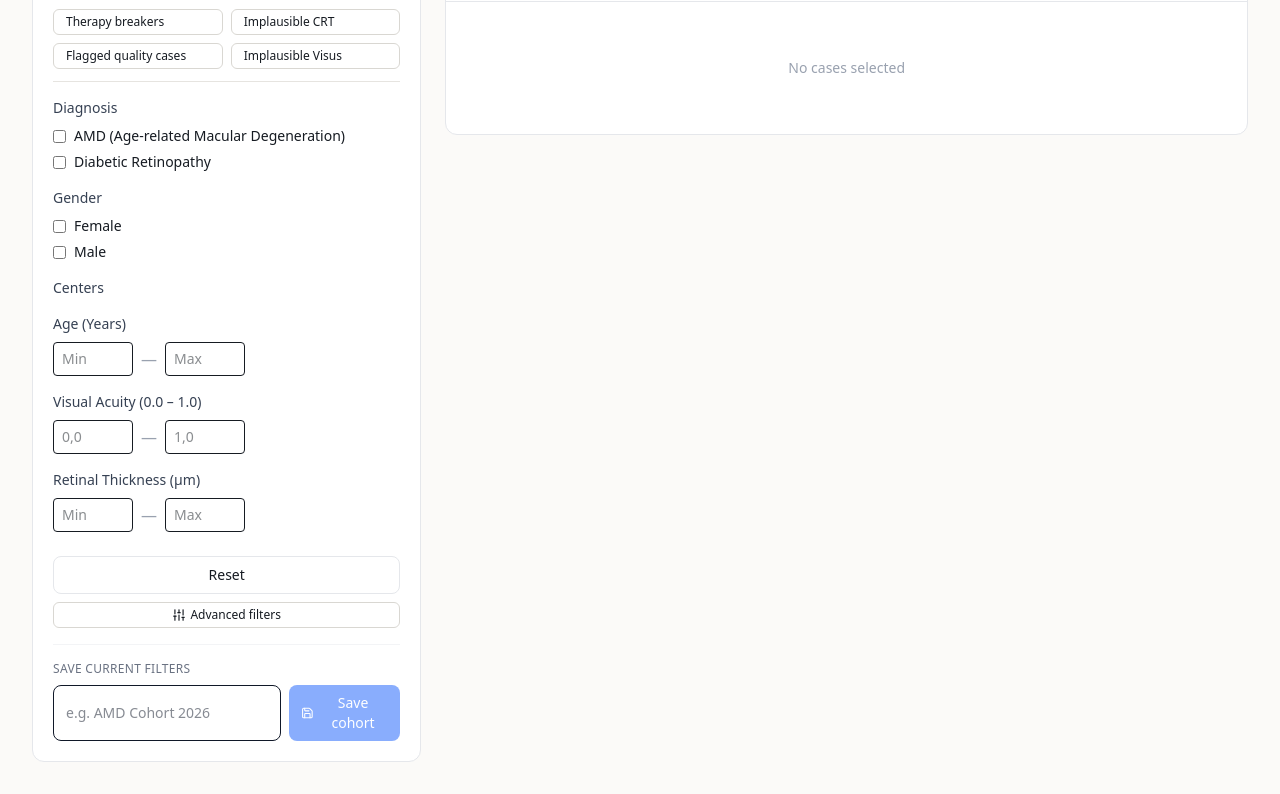
Test: subcohort save validation (SC1, SC5) › SC1 (too many colons): shows cohortNameTooManyColons error and disables Save cohort button
(page scrolled)
Type "Parent:Sub:Extra" into the field with placeholder "e.g. AMD Cohort 2026".
click(167, 713); type("Parent:Sub:Extra")  # box [53,685,281,741]
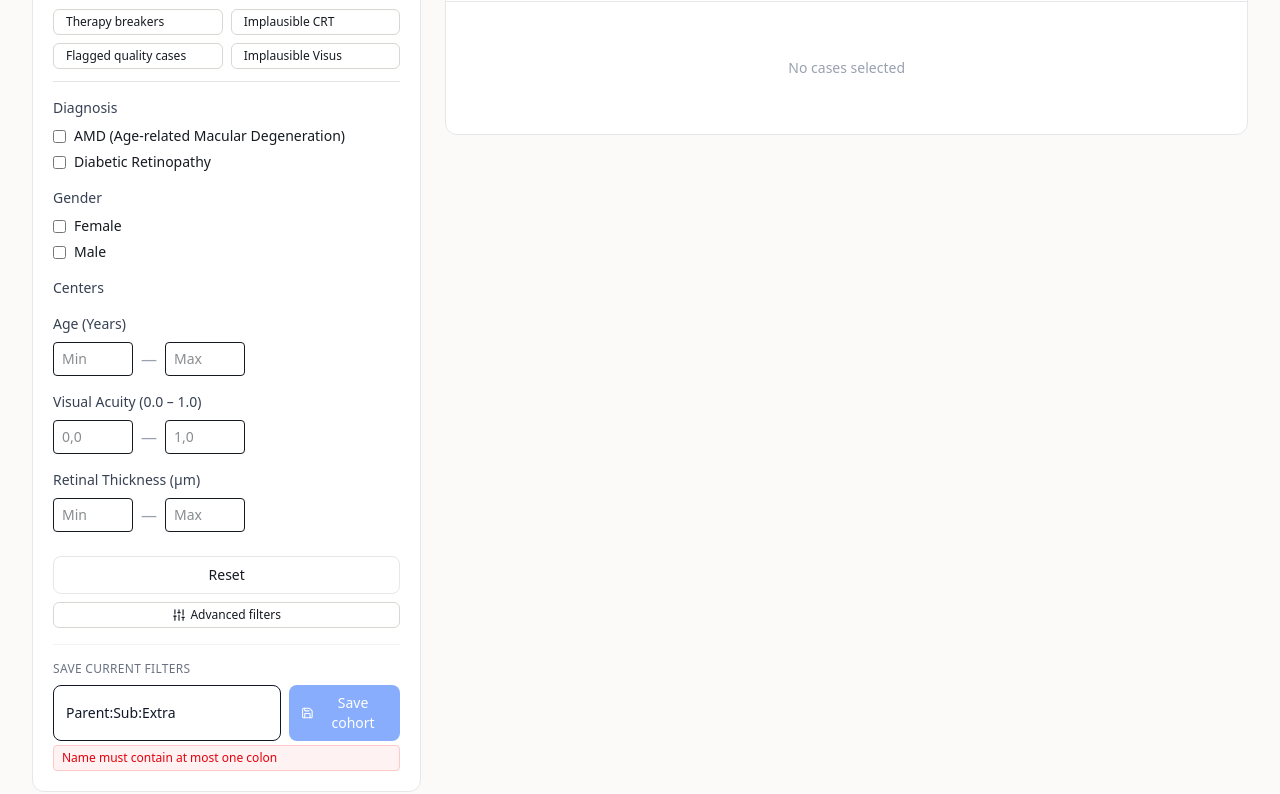
Expected: the button "Save cohort" is disabled, [289,685,400,741]
Expected: the text "Name must contain at most one colon" is shown, [53,745,400,771]
